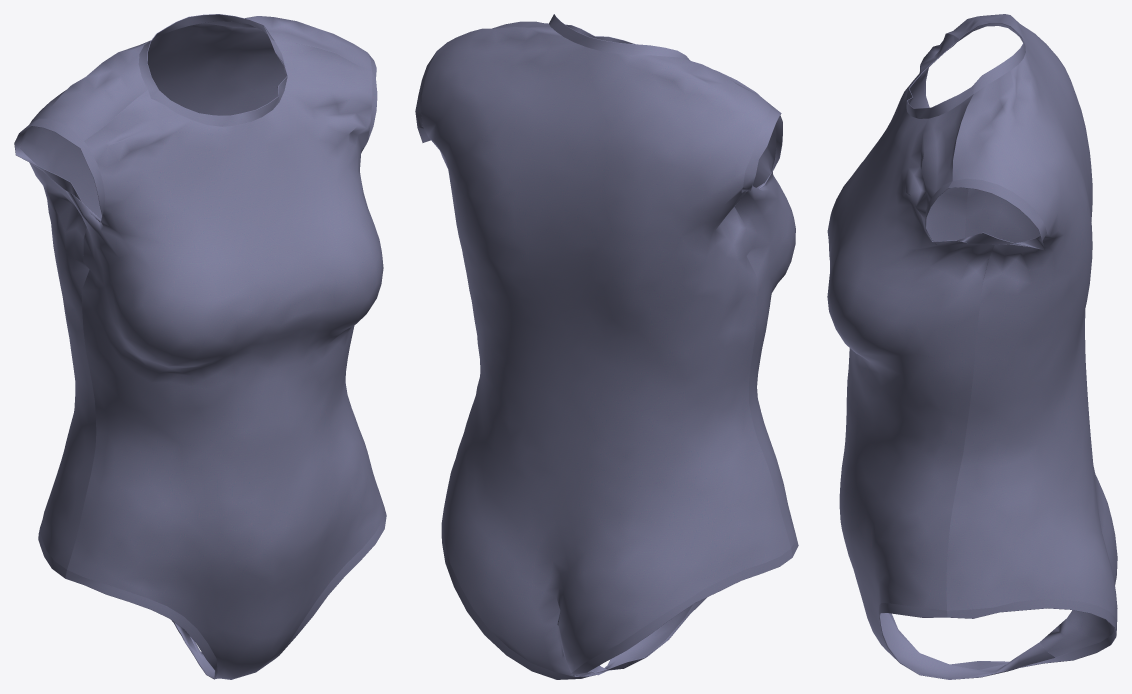
The picture shows the model from 3 angles, left to right: view 1: azimuth 30°, elevation 25°; view 2: azimuth 150°, elevation 25°; view 3: azimuth 270°, elevation 25°; orthographic projection. The views are drawn at different scales.
Parts seen in each view (by area): view 1: Pattern2D_3238331, Pattern2D_3236131, Pattern2D_12635, Pattern2D_3238332, Pattern2D_10739, Pattern2D_10728, Pattern2D_3238333; view 2: Pattern2D_3236131, Pattern2D_3238331, Pattern2D_12635, Pattern2D_10728, Pattern2D_3238333, Pattern2D_3238332; view 3: Pattern2D_3236131, Pattern2D_3238331, Pattern2D_3238333, Pattern2D_11019, Pattern2D_10728, Pattern2D_10739, Pattern2D_12635.
Part boxes in pixels (box(x1,y1,x2,y2)): Pattern2D_3238331: box(65, 41, 384, 679); Pattern2D_3236131: box(20, 16, 371, 569); Pattern2D_12635: box(38, 528, 217, 679); Pattern2D_3238332: box(14, 118, 105, 222); Pattern2D_10739: box(151, 39, 287, 126); Pattern2D_10728: box(138, 14, 274, 97); Pattern2D_3238333: box(174, 507, 386, 657); Pattern2D_3236131: box(421, 21, 790, 676); Pattern2D_3238331: box(575, 125, 796, 676); Pattern2D_12635: box(571, 533, 798, 676); Pattern2D_10728: box(549, 14, 690, 60); Pattern2D_3238333: box(441, 511, 610, 679); Pattern2D_3238332: box(741, 106, 782, 193); Pattern2D_3236131: box(946, 14, 1117, 657); Pattern2D_3238331: box(827, 33, 1055, 678); Pattern2D_3238333: box(878, 599, 1116, 679); Pattern2D_11019: box(925, 178, 1046, 250); Pattern2D_10728: box(954, 23, 1025, 93); Pattern2D_10739: box(906, 44, 973, 118); Pattern2D_12635: box(889, 574, 1116, 669).
Size of the model in its own units: 38.17 by 68.43 by 28.32.
